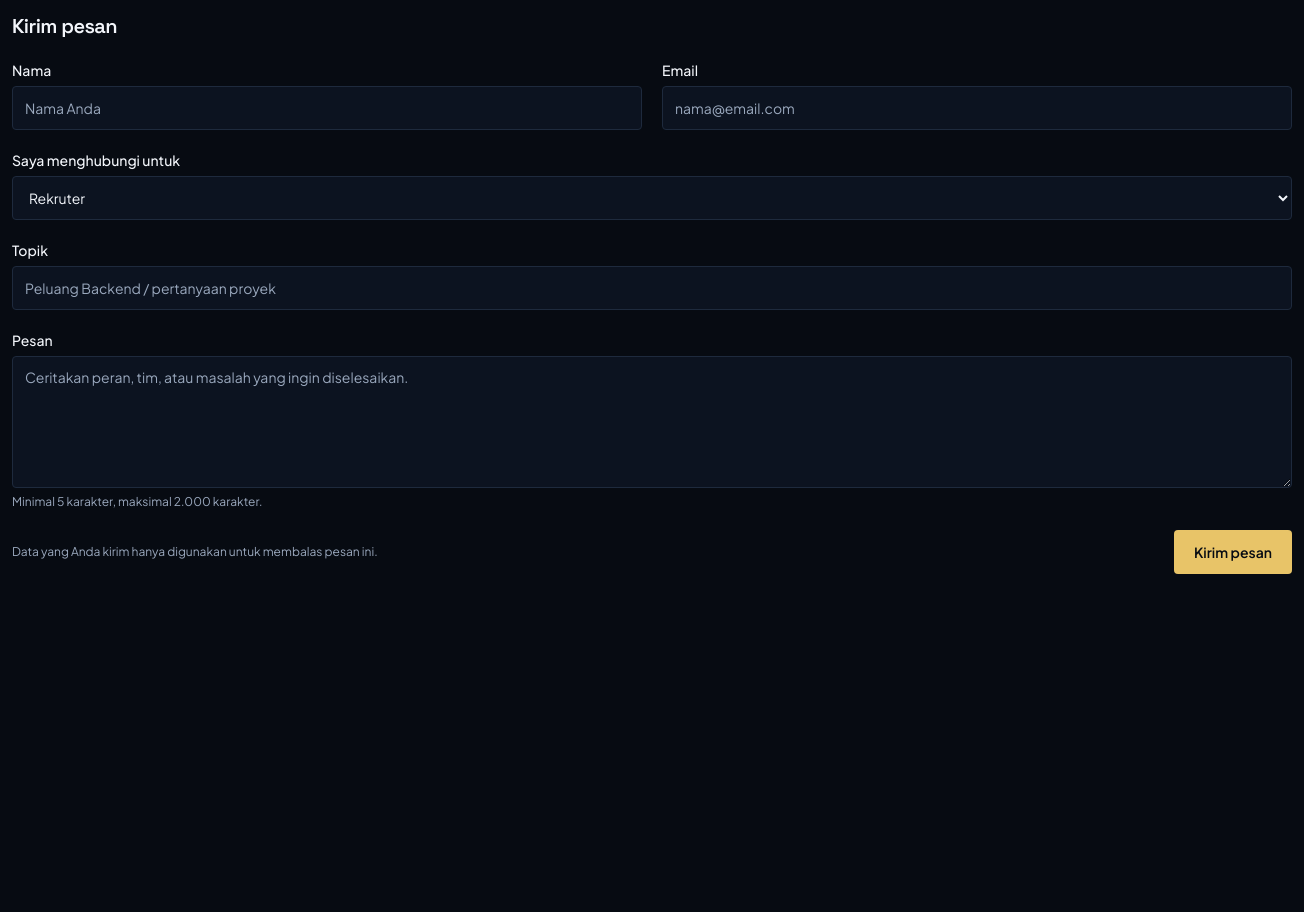
Test: ContactForm › menampilkan ringkasan error dan menerima fokus saat isian kosong
Click the button "Kirim pesan": (1233, 552) [1174,530,1292,574]
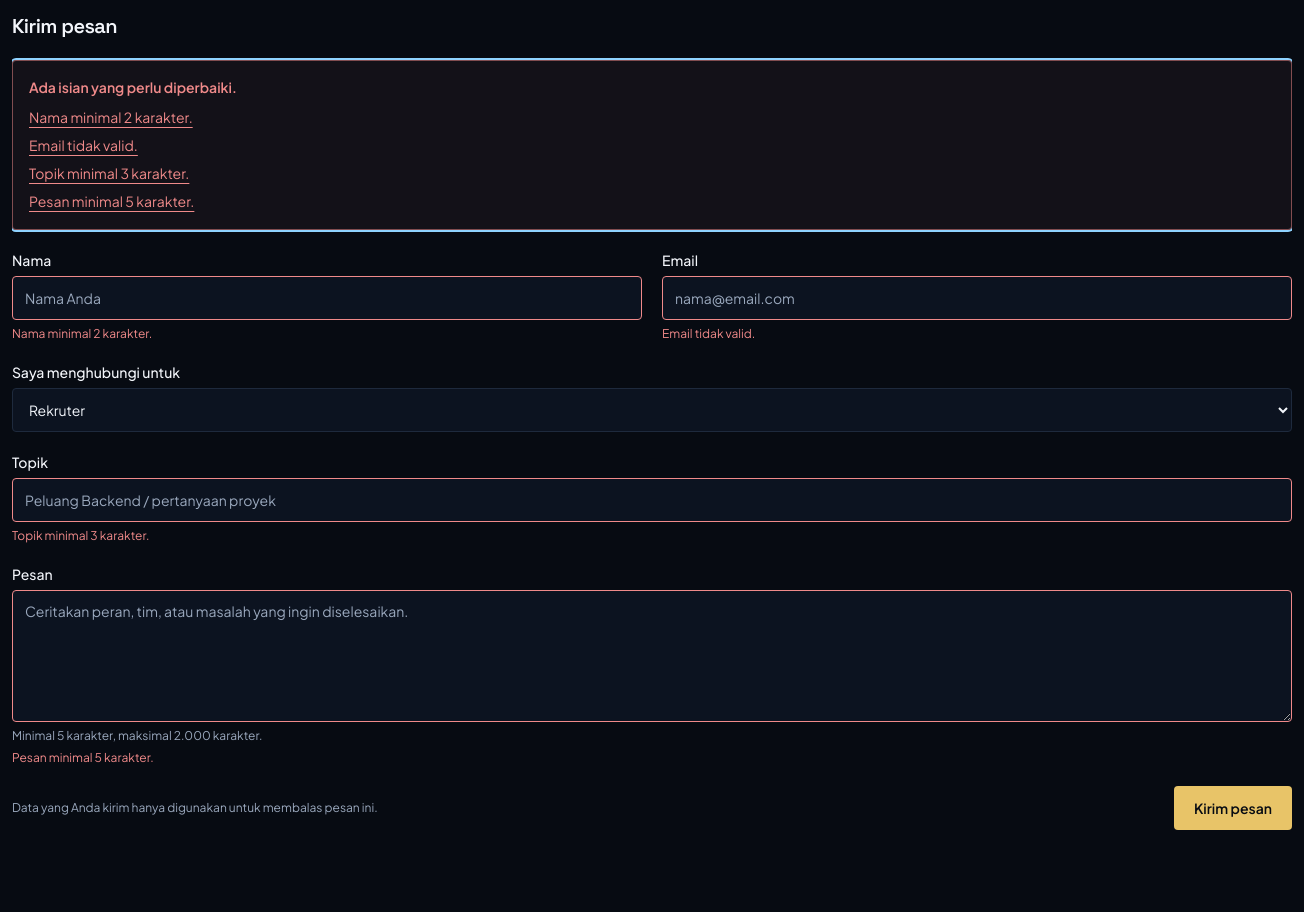
expect the message shows "Ada isian yang perlu diperbaiki.": met, box [29,78,237,96]
